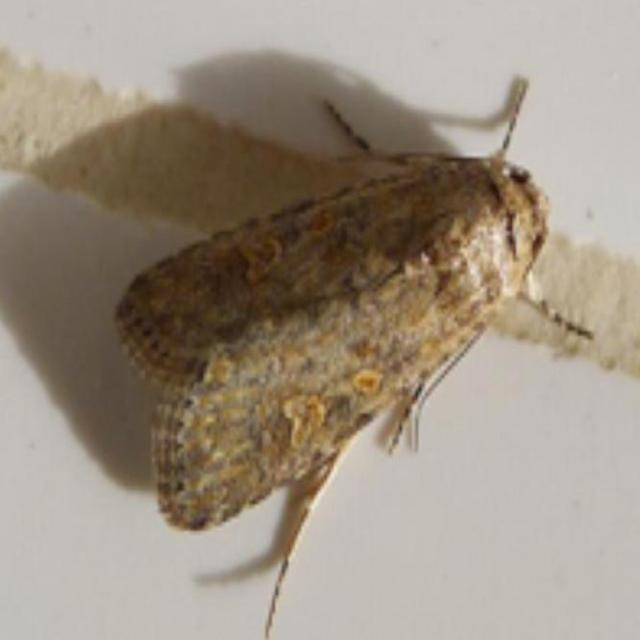BeetArmyWorm-Adult-: (89, 64, 606, 569)
